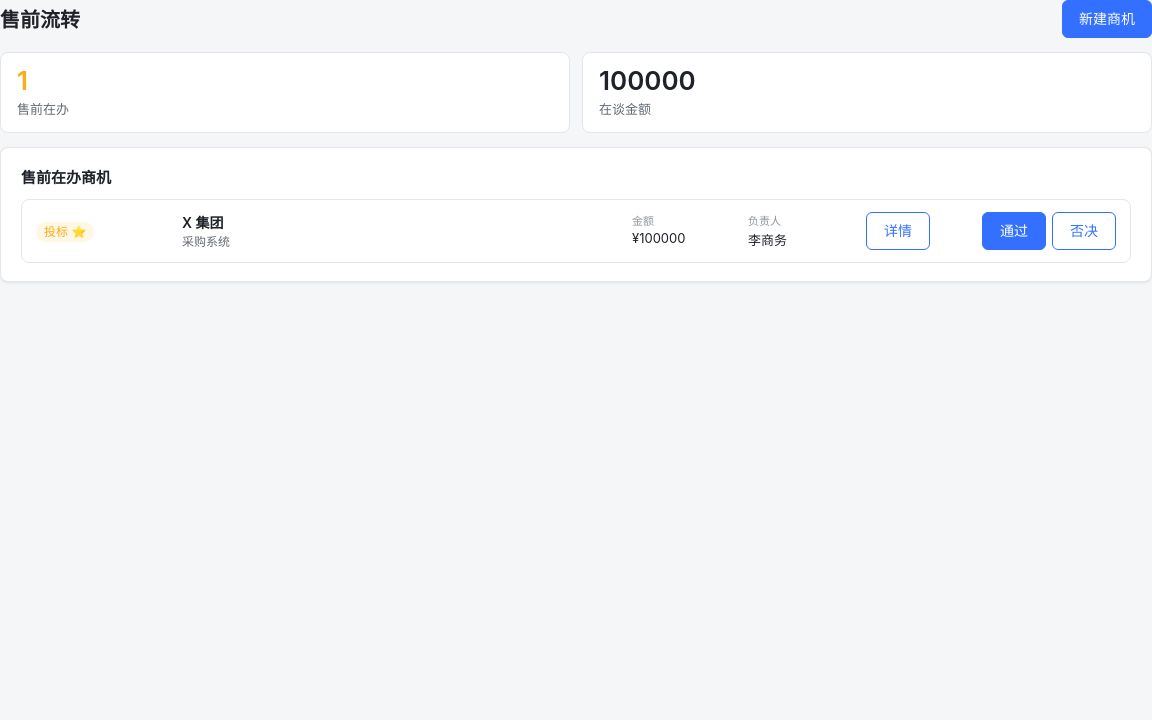
Test: PresaleFlow (售前流转 operations) › BIDDING 通过 opens the supplement form for 投标文件 (TC-FCAR-01)
The image size is (1152, 720).
Click the button with test id "presale-pass-7": (1014, 231) [982,212,1046,250]
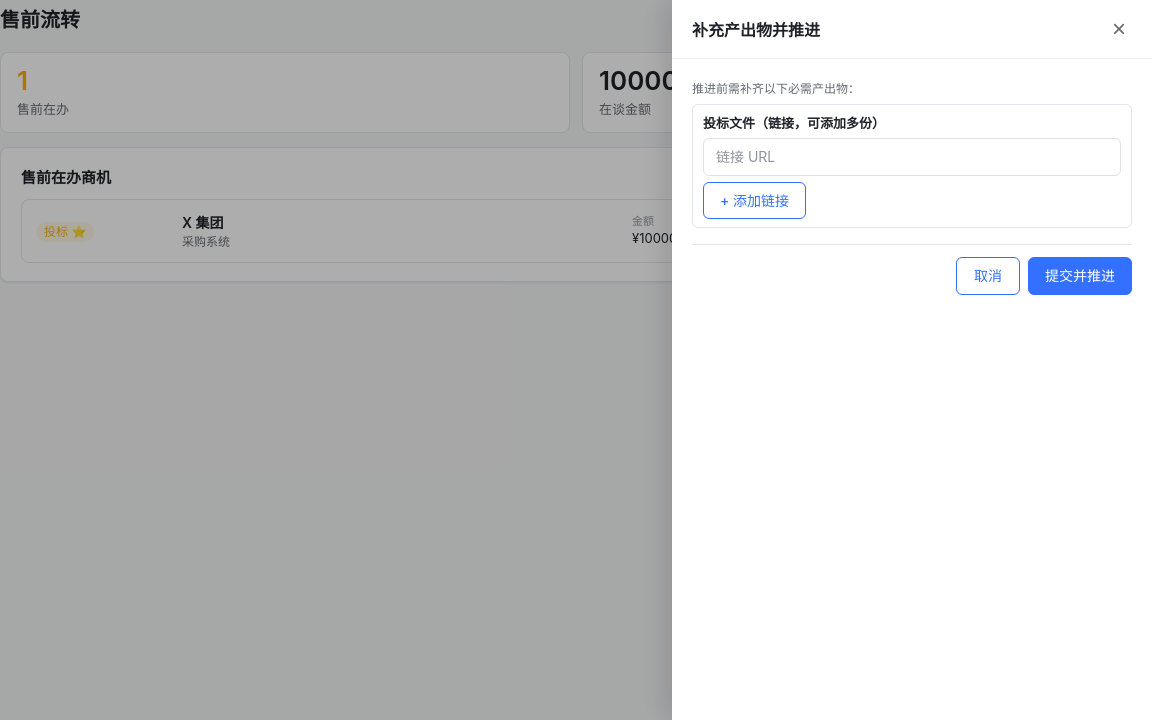
Expected: the element with test id "presale-supp-BID_DOCUMENT" is shown, [692,104,1132,228]
Expected: the field with test id "presale-supp-link-BID_DOCUMENT-0" is shown, [703,138,1121,176]
Expected: the button with test id "presale-supp-addlink-BID_DOCUMENT" is shown, [703,182,806,219]
